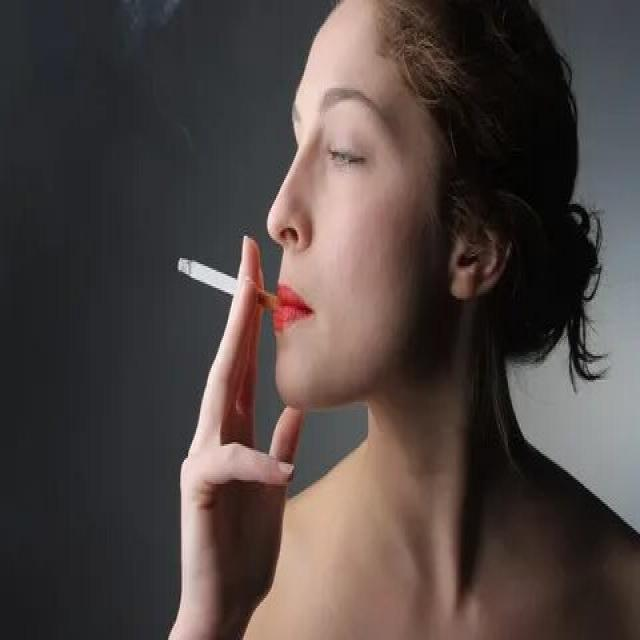smoke: (173, 254, 283, 320)
